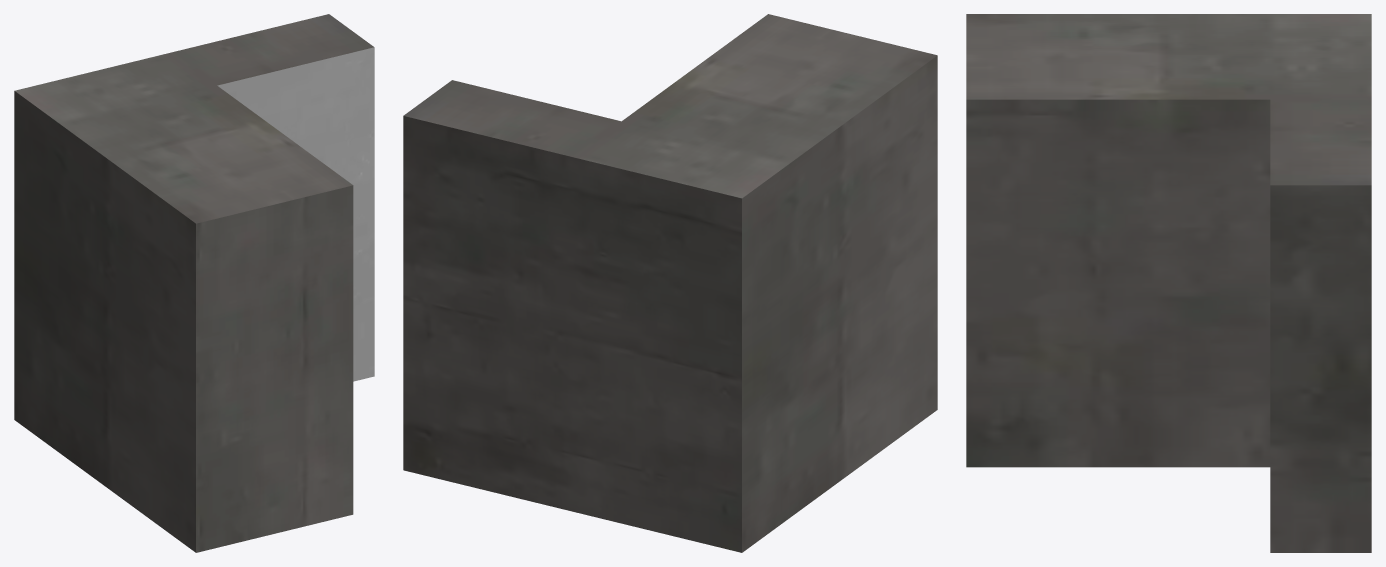
Rendered from flush_wall_50cm.glb.
3 renders of one model, left to right at view 1: azimuth 30°, elevation 25°; view 2: azimuth 150°, elevation 25°; view 3: azimuth 270°, elevation 25°, orthographic. The views are drawn at different scales.
Parts seen in each view (by area): view 1: flush.wall.50cm; view 2: flush.wall.50cm; view 3: flush.wall.50cm.
Boxes of the visible parts, x1,y1,x2,y2 form: flush.wall.50cm: (14,14,374,552); flush.wall.50cm: (403,14,937,552); flush.wall.50cm: (966,14,1371,552).
Size of the model in its own units: 0.5 by 0.5 by 0.5.
Materials: 2 (2 with a texture image).
